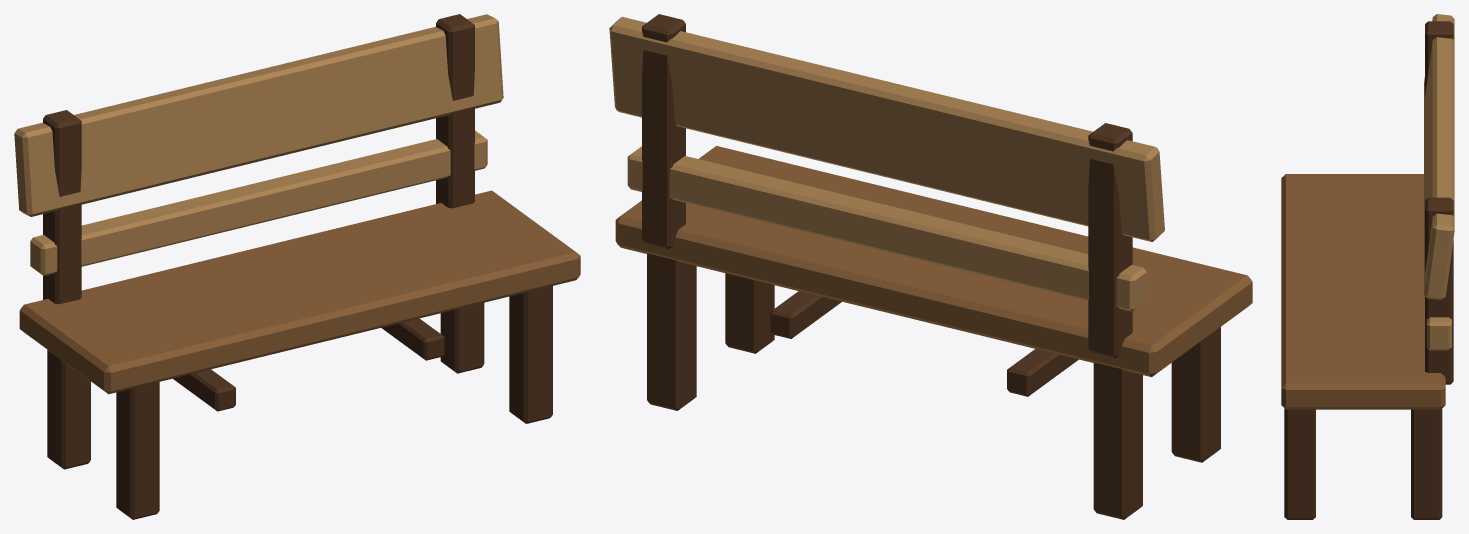
File: bench.fbx
3 views of the same model, side by side, from view 1: azimuth 30°, elevation 25°; view 2: azimuth 150°, elevation 25°; view 3: azimuth 270°, elevation 25° (orthographic). The views are drawn at different scales.
Parts seen in each view (by area): view 1: bench; view 2: bench; view 3: bench.
Boxes of the visible parts, x1,y1,x2,y2 form: bench: (14,14,580,519); bench: (609,14,1252,519); bench: (1281,14,1454,519).
Size of the model in its own units: 160 by 109 by 54.89.
